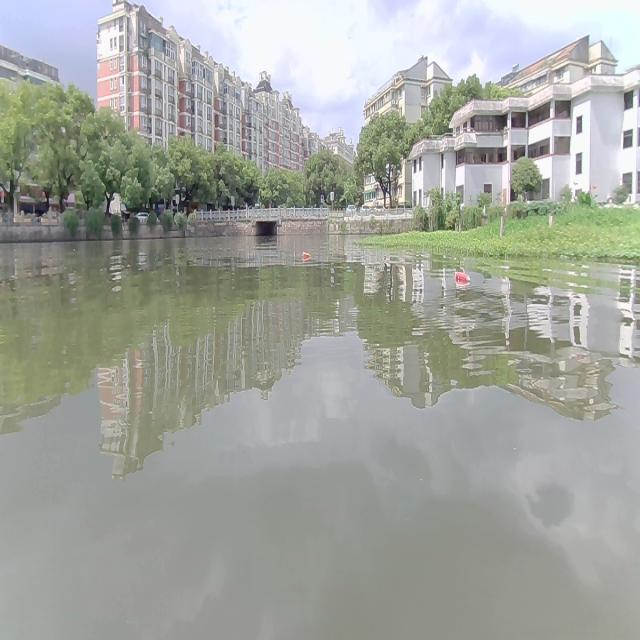bottle: (454, 270, 470, 281), (301, 251, 309, 257)
